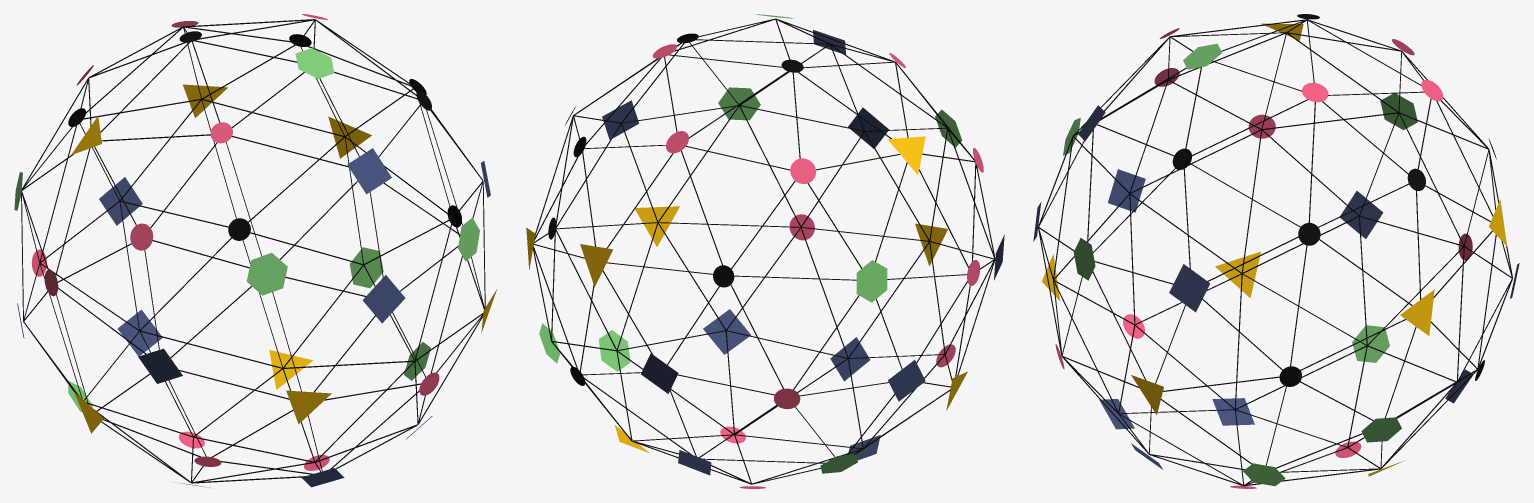
The picture shows the model from 3 angles, left to right: view 1: azimuth 30°, elevation 25°; view 2: azimuth 150°, elevation 25°; view 3: azimuth 270°, elevation 25°; orthographic projection. The views are drawn at different scales.
Parts seen in each view (by area): view 1: WireIsosphere.024; view 2: WireIsosphere.024; view 3: WireIsosphere.024.
Part boxes in pixels (x1=…): WireIsosphere.024: x1=14, y1=14, x2=496, y2=488; WireIsosphere.024: x1=526, y1=14, x2=1004, y2=488; WireIsosphere.024: x1=1033, y1=14, x2=1519, y2=488.
Bounding box in the file's own units: 3.47 × 3.41 × 3.48.
